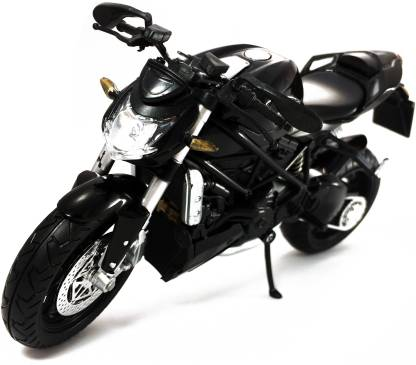bike: (8, 3, 415, 342)
